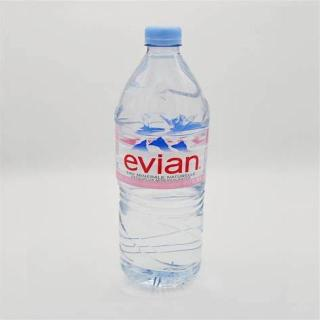Anorganik: (108, 20, 228, 298)
